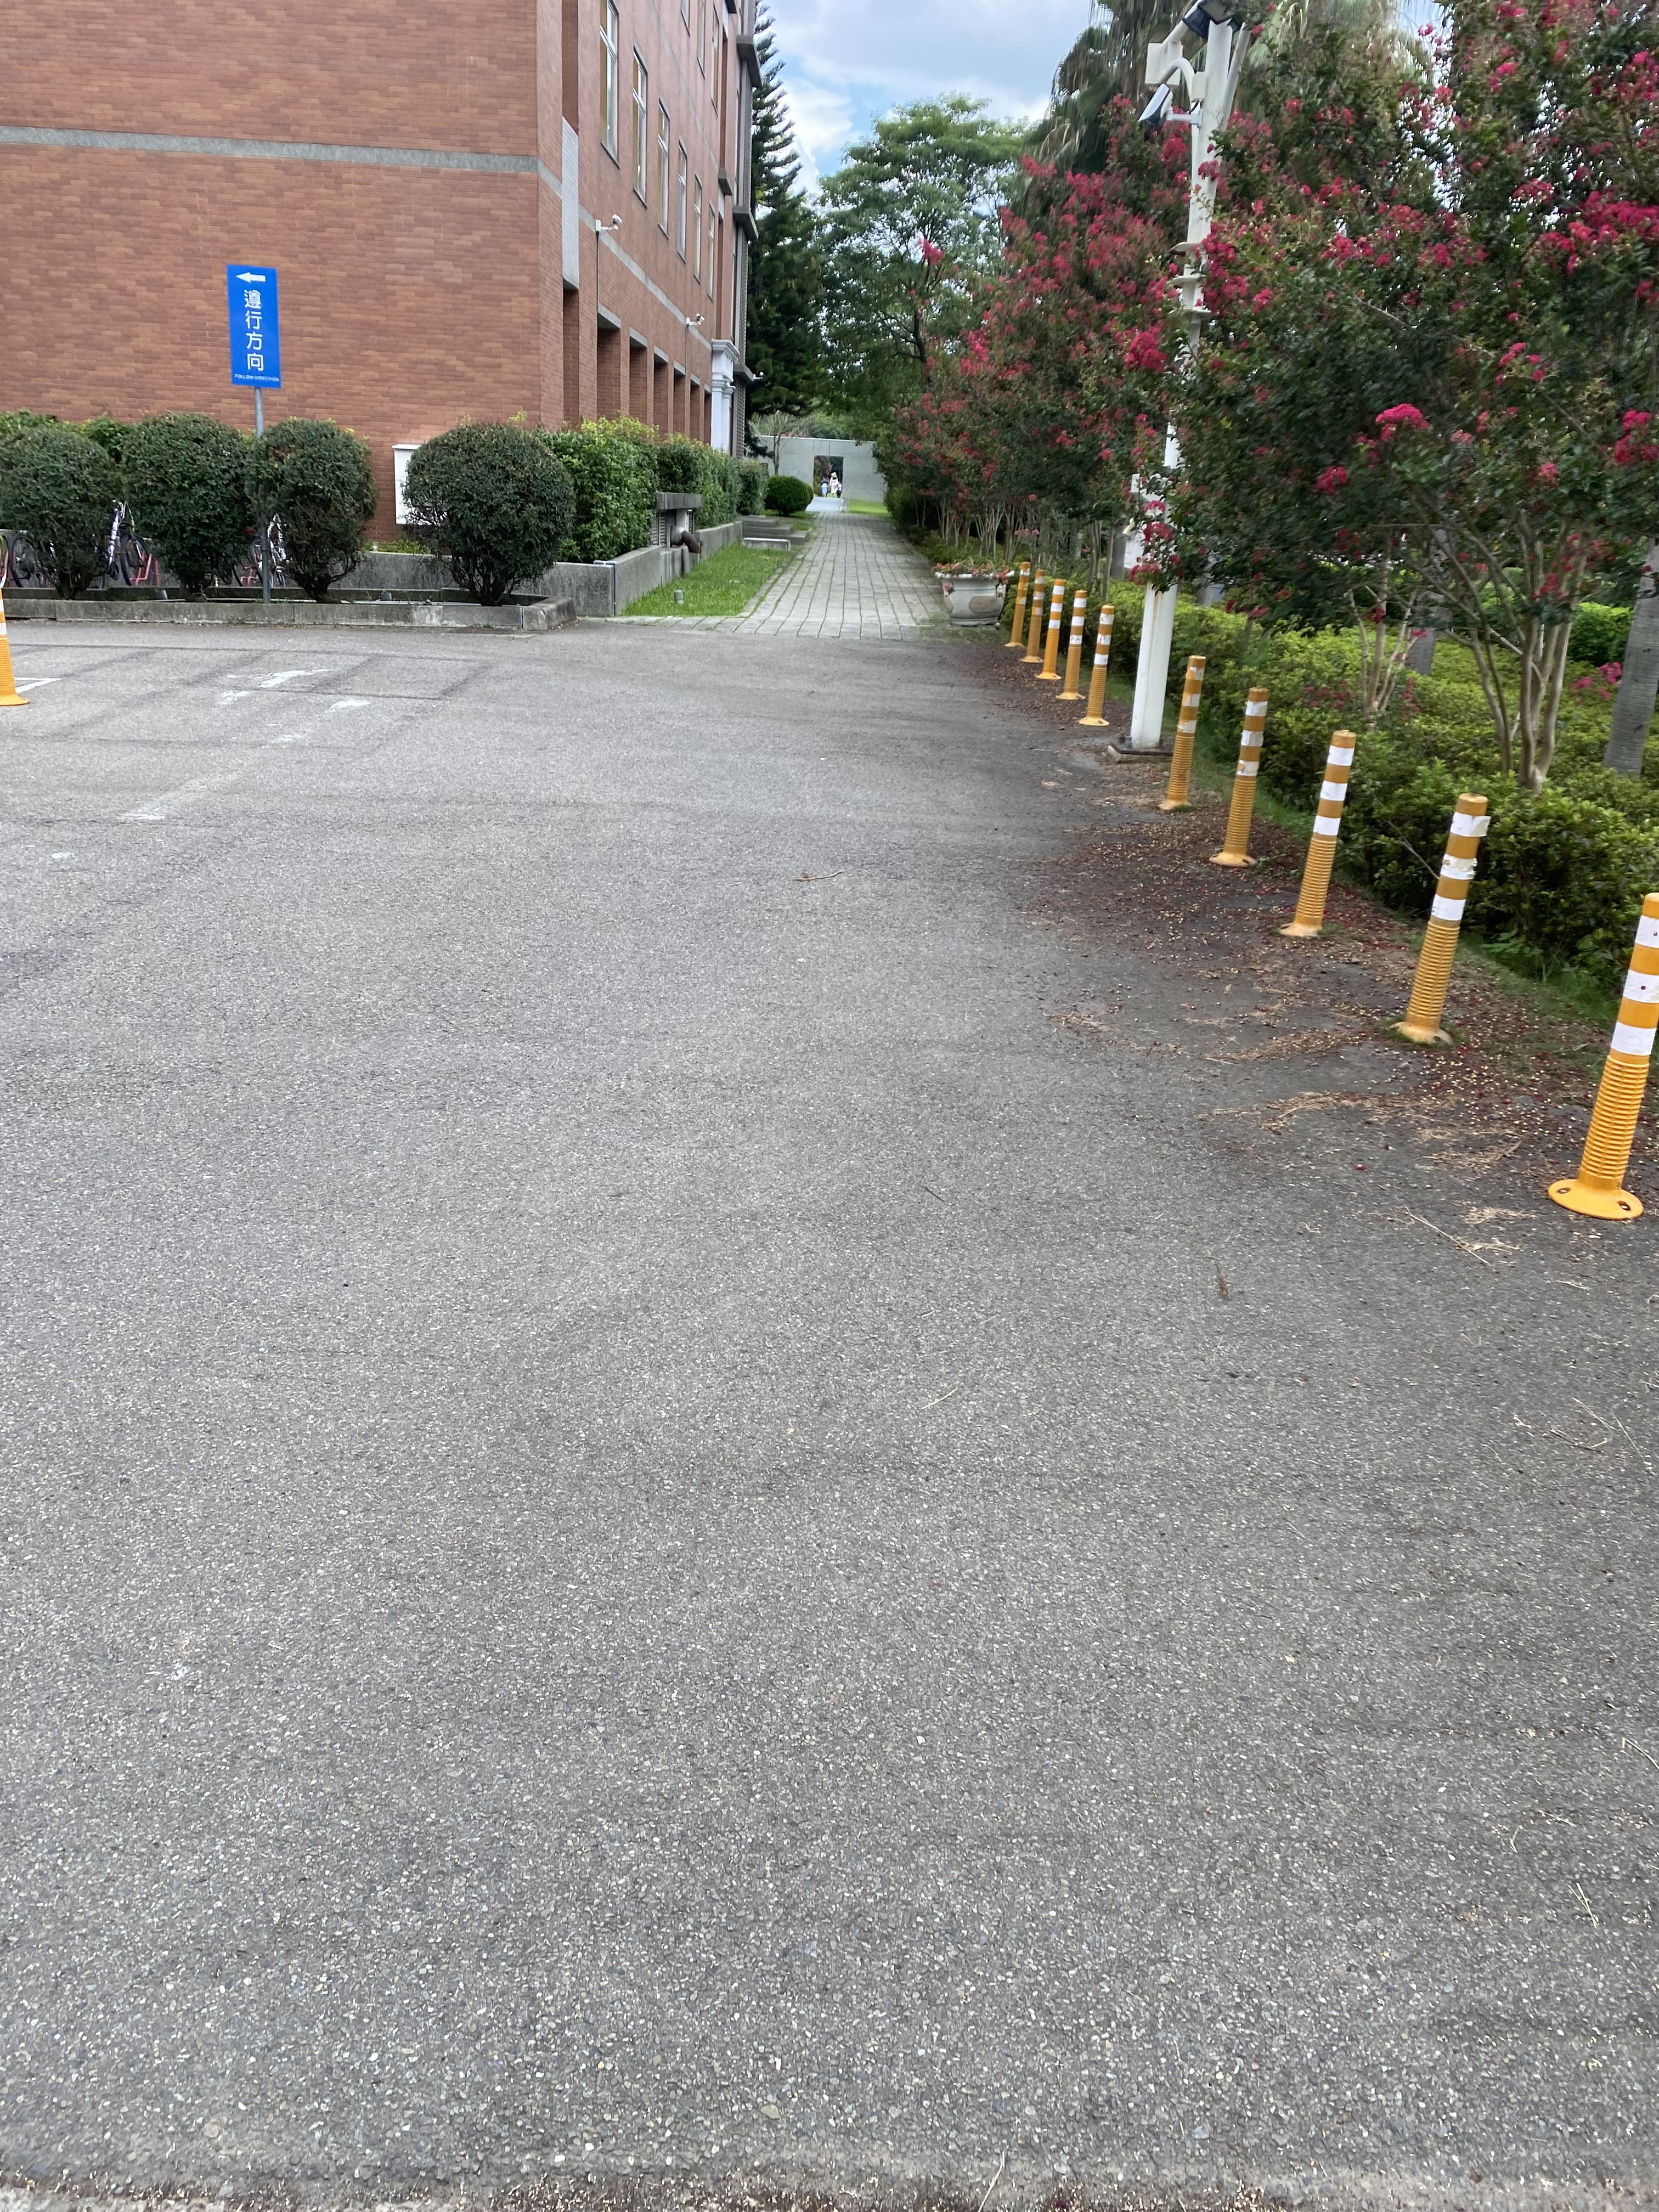0: (14, 620, 1659, 2212)
sidewalk: (718, 449, 1007, 765)
